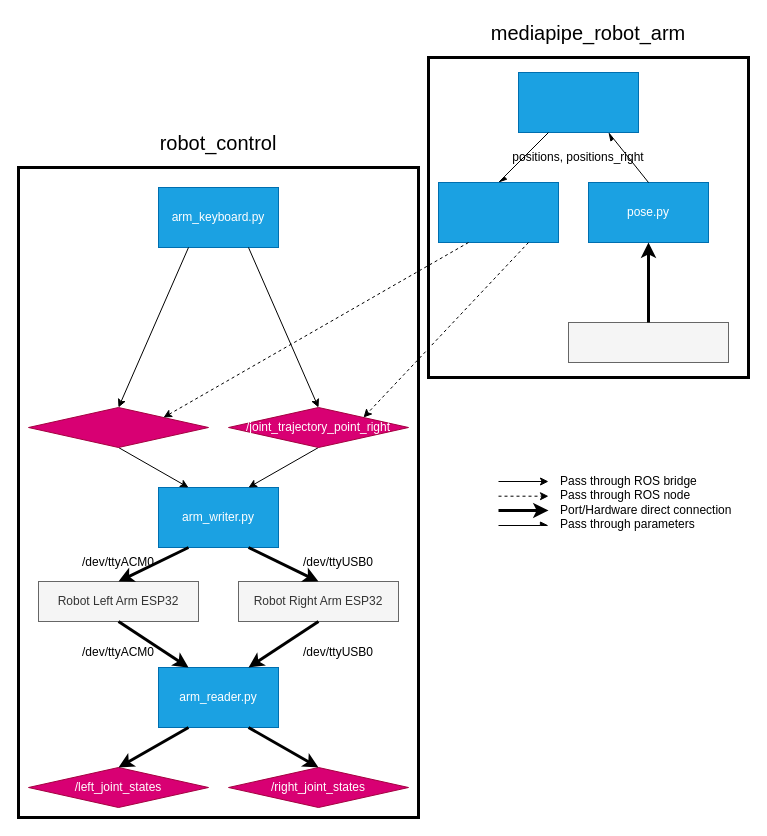
The diagram is 767 pixels wide and 836 high, and some of its shapes have lost their labels. Here are the shapes that lost their labels. From the top down, the centre of each, then its label:
At point (578, 102): "main.py".
At point (498, 212): "websocket.py".
At point (648, 342): "/dev/video0".
At point (118, 427): "/joint_trajectory_point_left".
